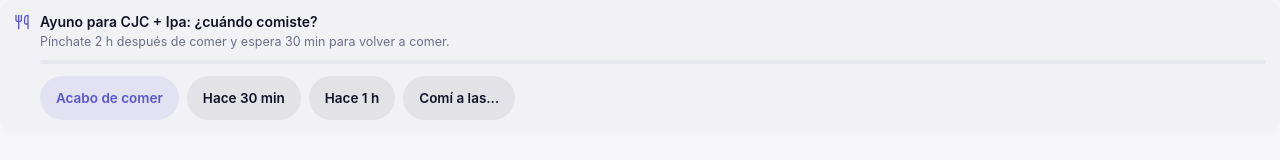
Test: FastingCard › keeps the room of what it may show, so noting a meal moves nothing
Click the button "Hace 30 min".
click(244, 98)  # box x1=187 y1=76 x2=301 y2=120
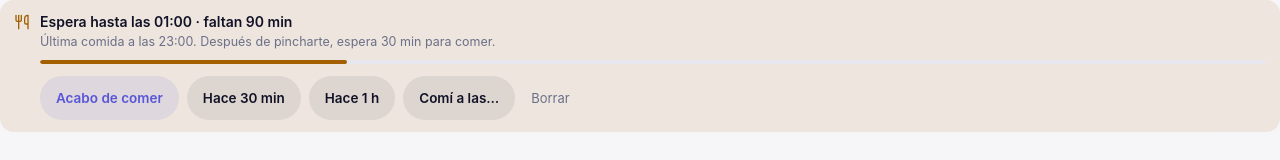
Expected: the button "Borrar" is shown, x1=523 y1=76 x2=578 y2=120
